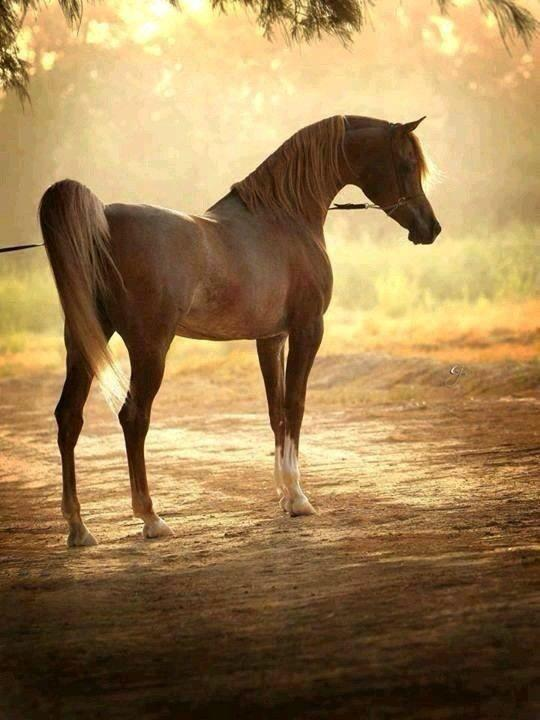horse: (37, 112, 442, 548)
